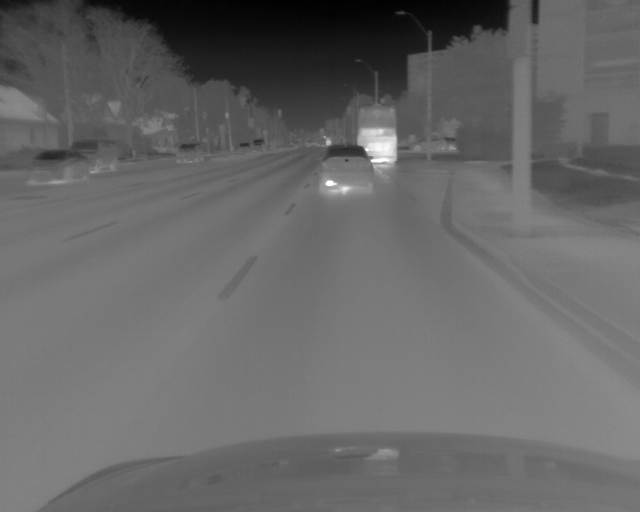car: (344, 106, 397, 166), (319, 144, 374, 193), (26, 151, 88, 184), (70, 139, 118, 174), (410, 135, 453, 154), (175, 141, 205, 165), (251, 138, 265, 152), (237, 141, 249, 152)
